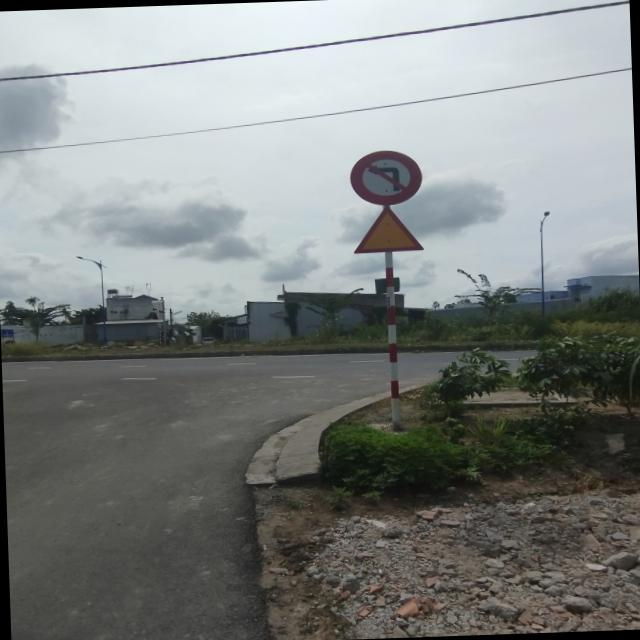Cam_Re_Trai: (348, 148, 423, 206)
Gioi_Han_Toc_Do_25: (352, 203, 426, 254)
